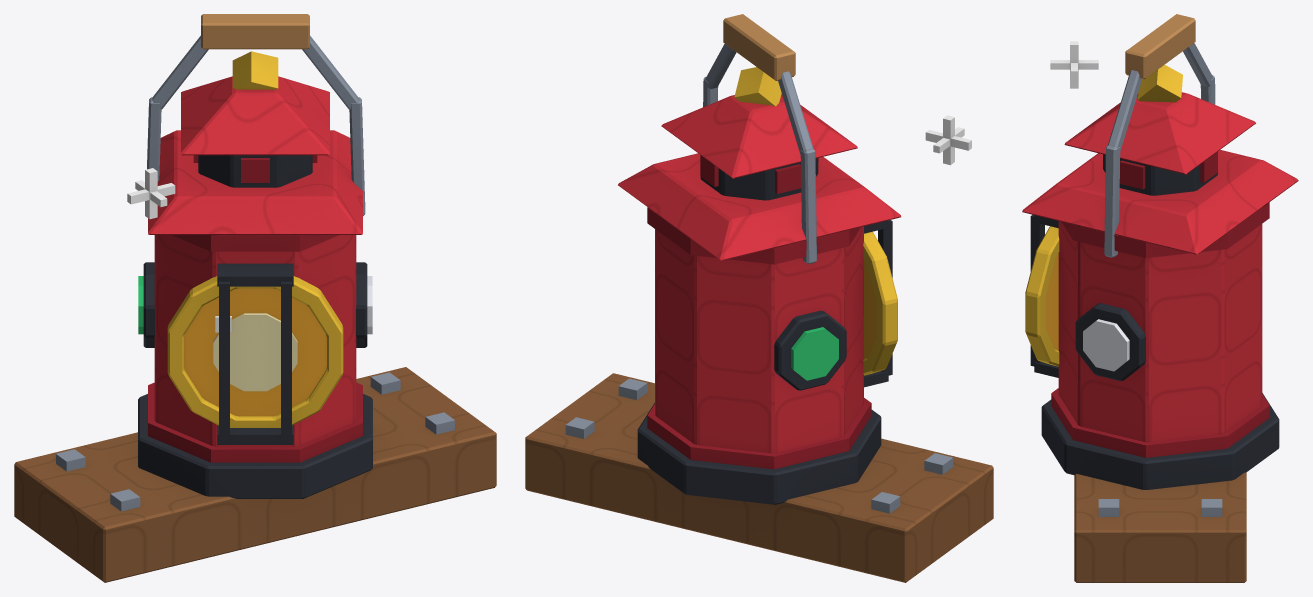
The model's file is LinemanLantern.fbx.
3 renders of one model, left to right at view 1: azimuth 30°, elevation 25°; view 2: azimuth 150°, elevation 25°; view 3: azimuth 270°, elevation 25°, orthographic. The views are drawn at different scales.
Parts seen in each view (by area): view 1: Art_LinemanLantern; view 2: Art_LinemanLantern; view 3: Art_LinemanLantern.
Boxes of the visible parts, x1=… form: Art_LinemanLantern: x1=14, y1=14, x2=496, y2=582; Art_LinemanLantern: x1=525, y1=14, x2=993, y2=582; Art_LinemanLantern: x1=1022, y1=14, x2=1298, y2=582.
Bounding box in the file's own units: 2.5 × 2.94 × 1.61.
